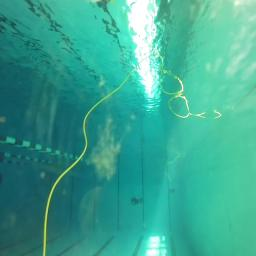Full: (131, 196, 143, 204), (169, 187, 176, 194)
